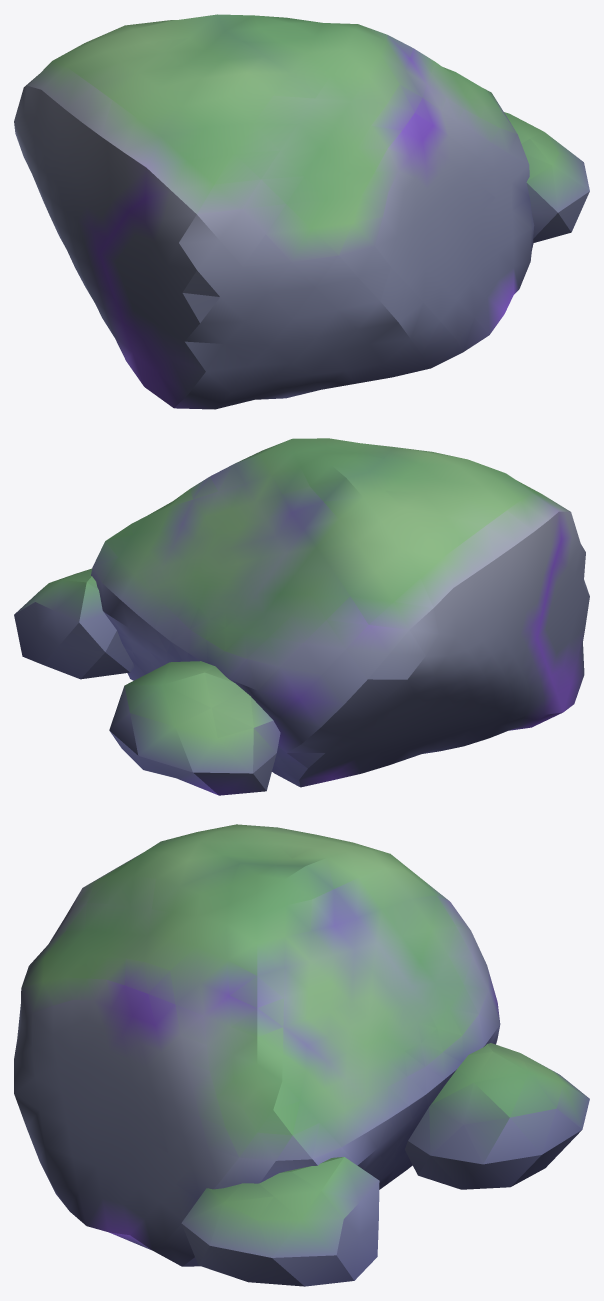
The model's file is hub_rock_chunk_a.glb.
The picture shows the model from 3 angles, top to bottom: view 1: azimuth 30°, elevation 25°; view 2: azimuth 150°, elevation 25°; view 3: azimuth 270°, elevation 25°; orthographic projection. The views are drawn at different scales.
Visible parts, largest first — view 1: hub_rock_chunk_a; view 2: hub_rock_chunk_a; view 3: hub_rock_chunk_a.
Part boxes in pixels (bbox=[...]): hub_rock_chunk_a: bbox=[14, 14, 589, 409]; hub_rock_chunk_a: bbox=[14, 438, 589, 795]; hub_rock_chunk_a: bbox=[14, 824, 589, 1286].
Size of the model in its own units: 2.36 by 1.25 by 2.29.
